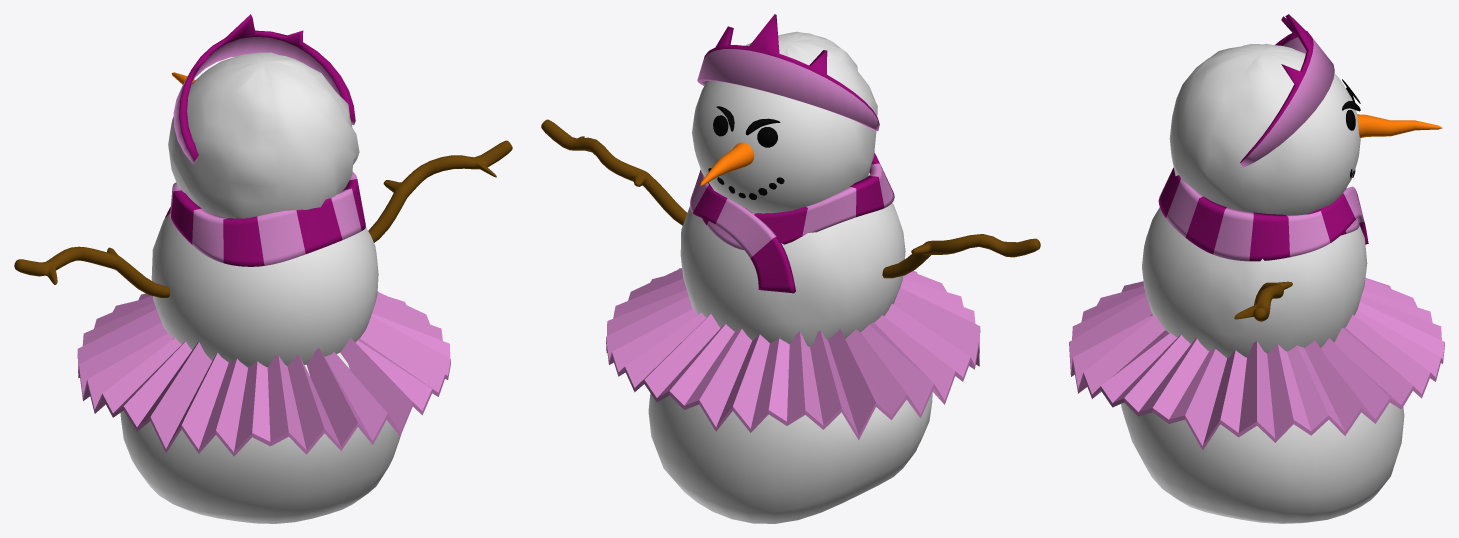
File: MuñecoBailarin.fbx
3 views of the same model, side by side, from view 1: azimuth 30°, elevation 25°; view 2: azimuth 150°, elevation 25°; view 3: azimuth 270°, elevation 25° (orthographic).
Parts seen in each view (by area): view 1: Bailarin; view 2: Bailarin; view 3: Bailarin.
Boxes of the visible parts, <box> form: Bailarin: <box>14,14,512,523</box>; Bailarin: <box>541,14,1040,523</box>; Bailarin: <box>1069,14,1444,523</box>.
Bounding box in the file's own units: 362 × 331 × 236.
